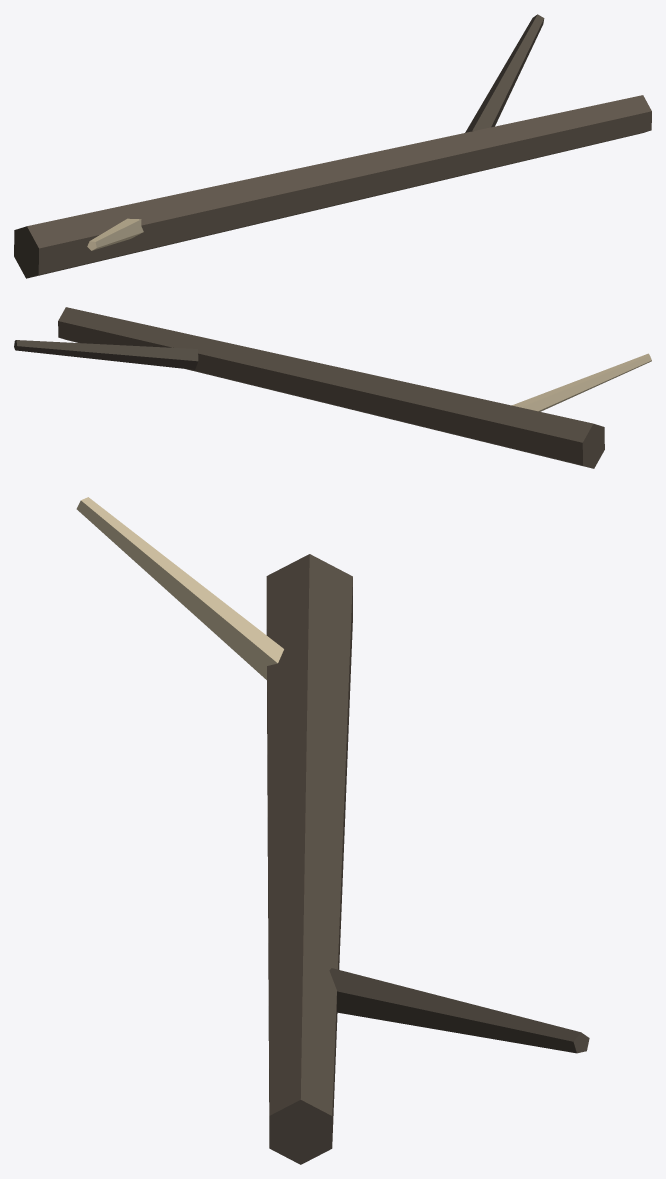
Rendered from driftwood.glb.
3 renders of one model, top to bottom at view 1: azimuth 30°, elevation 25°; view 2: azimuth 150°, elevation 25°; view 3: azimuth 270°, elevation 25°, orthographic. The views are drawn at different scales.
Visible parts, largest first — view 1: driftwood; view 2: driftwood; view 3: driftwood.
Boxes of the visible parts, x1,y1,x2,y2 form: driftwood: [14, 14, 651, 278]; driftwood: [14, 307, 651, 468]; driftwood: [76, 497, 589, 1164].
Bounding box in the file's own units: 2.72 × 0.3655 × 1.13.
Materials: 1 (1 with a texture image).
